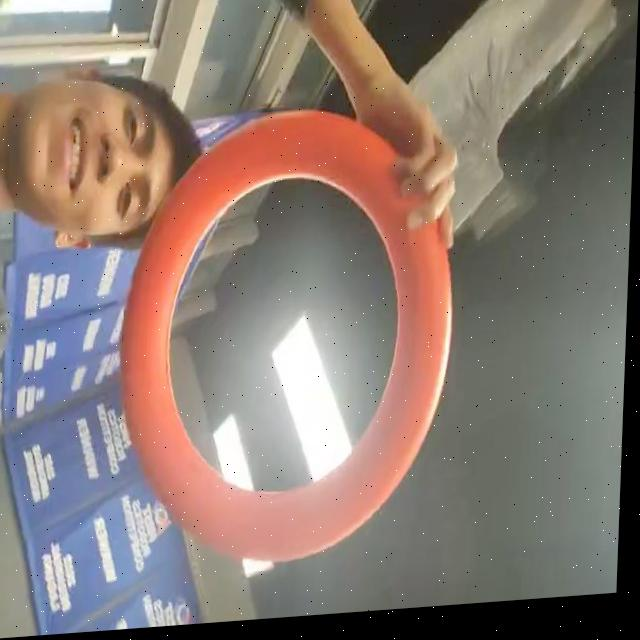note: (92, 84, 486, 584)
